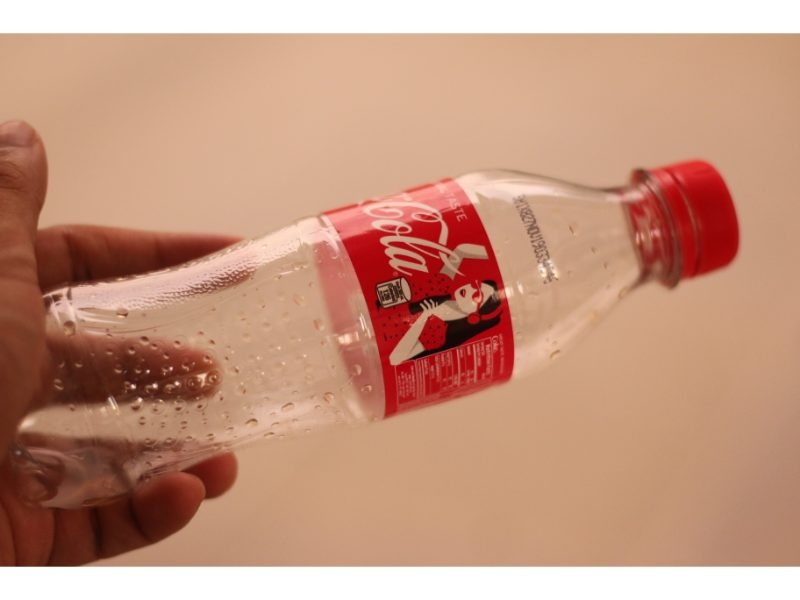PET #1: (16, 140, 743, 514)
